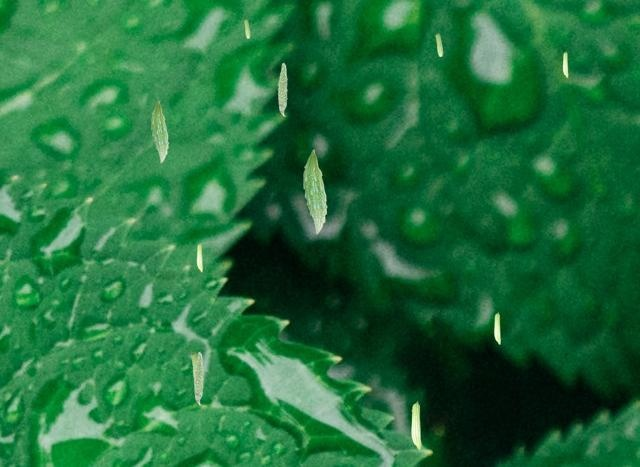ampalaya: (303, 149, 327, 234), (150, 100, 169, 163), (277, 62, 288, 116), (193, 351, 204, 405), (411, 400, 421, 450), (494, 311, 501, 344), (196, 242, 203, 272), (435, 33, 443, 57), (562, 51, 568, 78), (190, 352, 196, 376), (243, 18, 250, 38)
